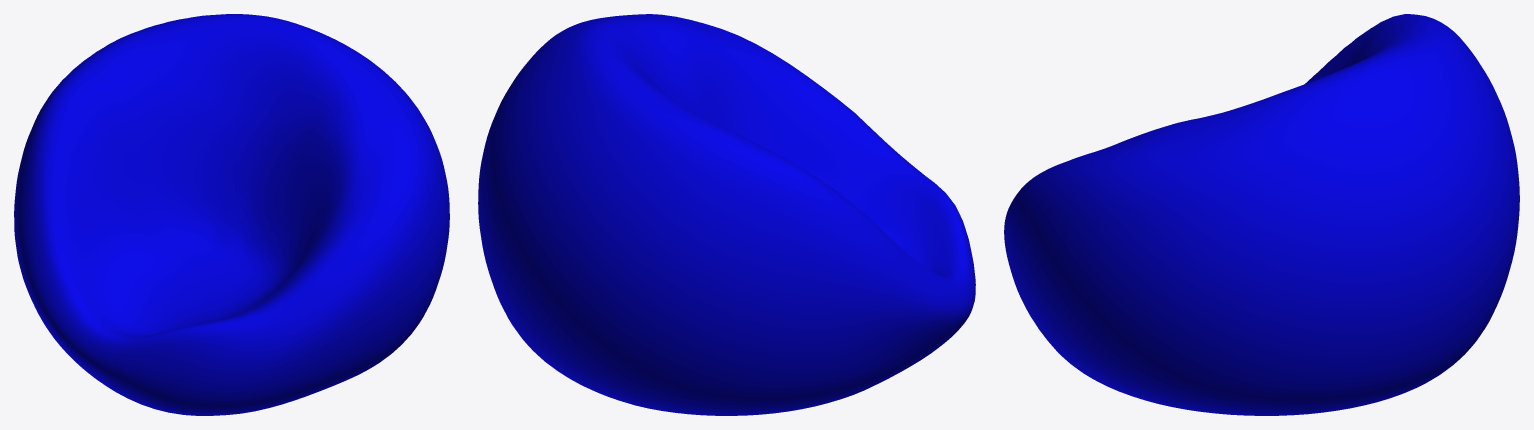
Rendered from beanbagfixfix.fbx.
The picture shows the model from 3 angles, left to right: view 1: azimuth 30°, elevation 25°; view 2: azimuth 150°, elevation 25°; view 3: azimuth 270°, elevation 25°; orthographic projection. The views are drawn at different scales.
Visible parts, largest first — view 1: pSphere1; view 2: pSphere1; view 3: pSphere1.
Boxes of the visible parts, x1,y1,x2,y2 form: pSphere1: [14, 14, 449, 415]; pSphere1: [478, 14, 975, 415]; pSphere1: [1004, 14, 1519, 415].
Bounding box in the file's own units: 3.19 × 2.24 × 3.19.
